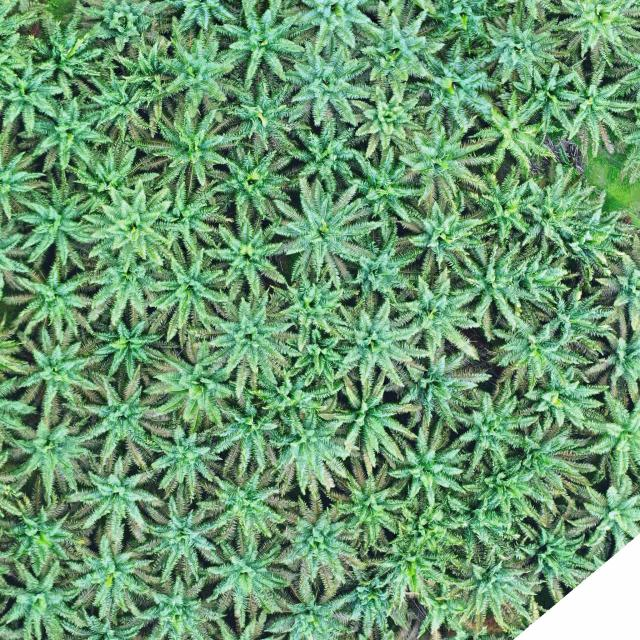Tree: (186, 285, 306, 407), (272, 166, 384, 292), (66, 367, 182, 477), (324, 290, 437, 402), (78, 175, 190, 283), (128, 98, 235, 206), (314, 362, 423, 468), (0, 164, 104, 272), (374, 416, 476, 525), (382, 109, 504, 200), (1, 320, 106, 425), (270, 479, 370, 588), (388, 343, 500, 440), (191, 457, 301, 553), (396, 34, 505, 130), (329, 453, 429, 551), (350, 2, 448, 102), (61, 442, 167, 534), (144, 238, 238, 340), (392, 264, 486, 366), (137, 342, 239, 434), (15, 90, 117, 182), (472, 11, 580, 97), (15, 2, 107, 102), (0, 479, 92, 579), (212, 68, 316, 156), (4, 406, 94, 507), (203, 531, 297, 627), (463, 86, 558, 180), (264, 401, 357, 496), (364, 536, 473, 616), (150, 11, 238, 110), (209, 129, 297, 228), (444, 240, 536, 334), (282, 41, 379, 130), (80, 247, 176, 336), (67, 526, 157, 620), (273, 264, 363, 358), (552, 187, 636, 286), (453, 376, 544, 466), (201, 210, 294, 298), (339, 216, 426, 310), (216, 3, 314, 86), (64, 137, 164, 218), (511, 352, 611, 432), (557, 61, 636, 162), (0, 554, 92, 640), (454, 160, 548, 244), (510, 417, 598, 505), (79, 300, 173, 382), (463, 442, 550, 530), (492, 59, 587, 139), (434, 546, 534, 620), (539, 278, 620, 369), (207, 389, 288, 479), (72, 63, 162, 144), (343, 74, 429, 158), (342, 141, 426, 227), (140, 493, 220, 583), (284, 112, 368, 197), (1, 260, 90, 340), (489, 310, 577, 389), (149, 413, 227, 501), (511, 167, 588, 256), (404, 194, 486, 276), (135, 571, 228, 640), (150, 178, 226, 261), (108, 26, 180, 110)
